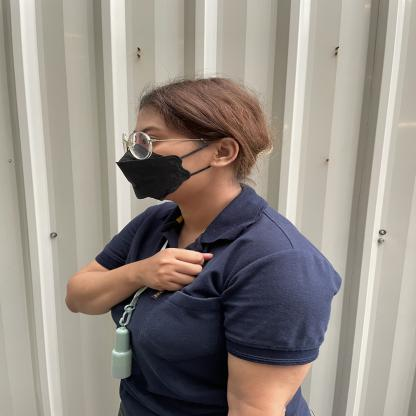Sadness: (58, 212, 276, 336)
